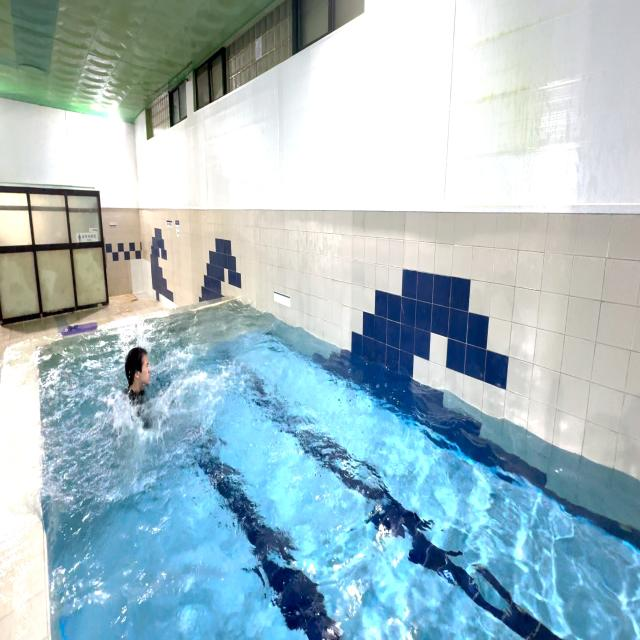Swimming: (105, 337, 182, 426)
